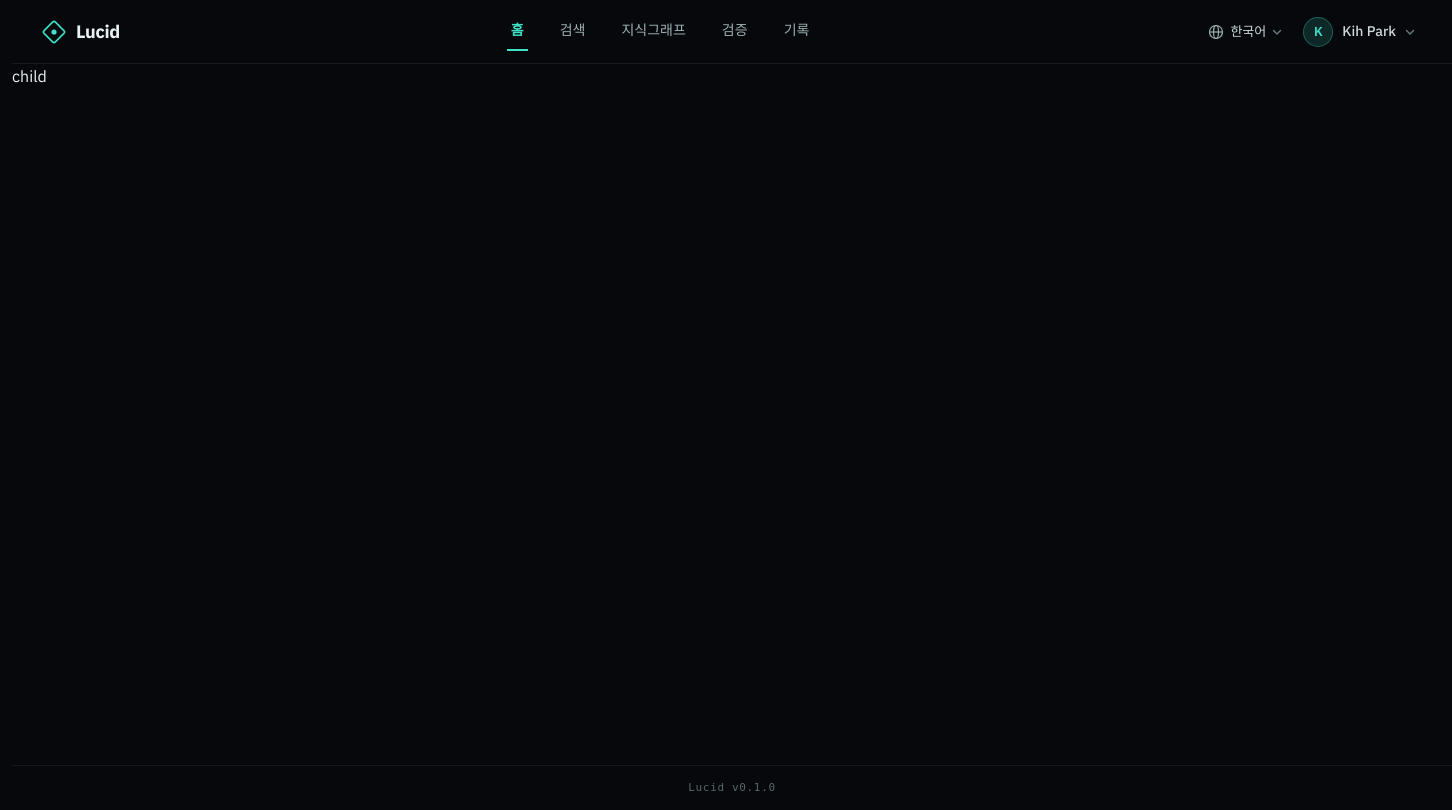
it: AppShell › B-61 — renders me.email when useAuthMe returns a me object
Open the dropdown so the email is in the DOM.
Click the button with test id "app-shell-profile-trigger".
click(1359, 32)  # box [1296, 12, 1422, 52]
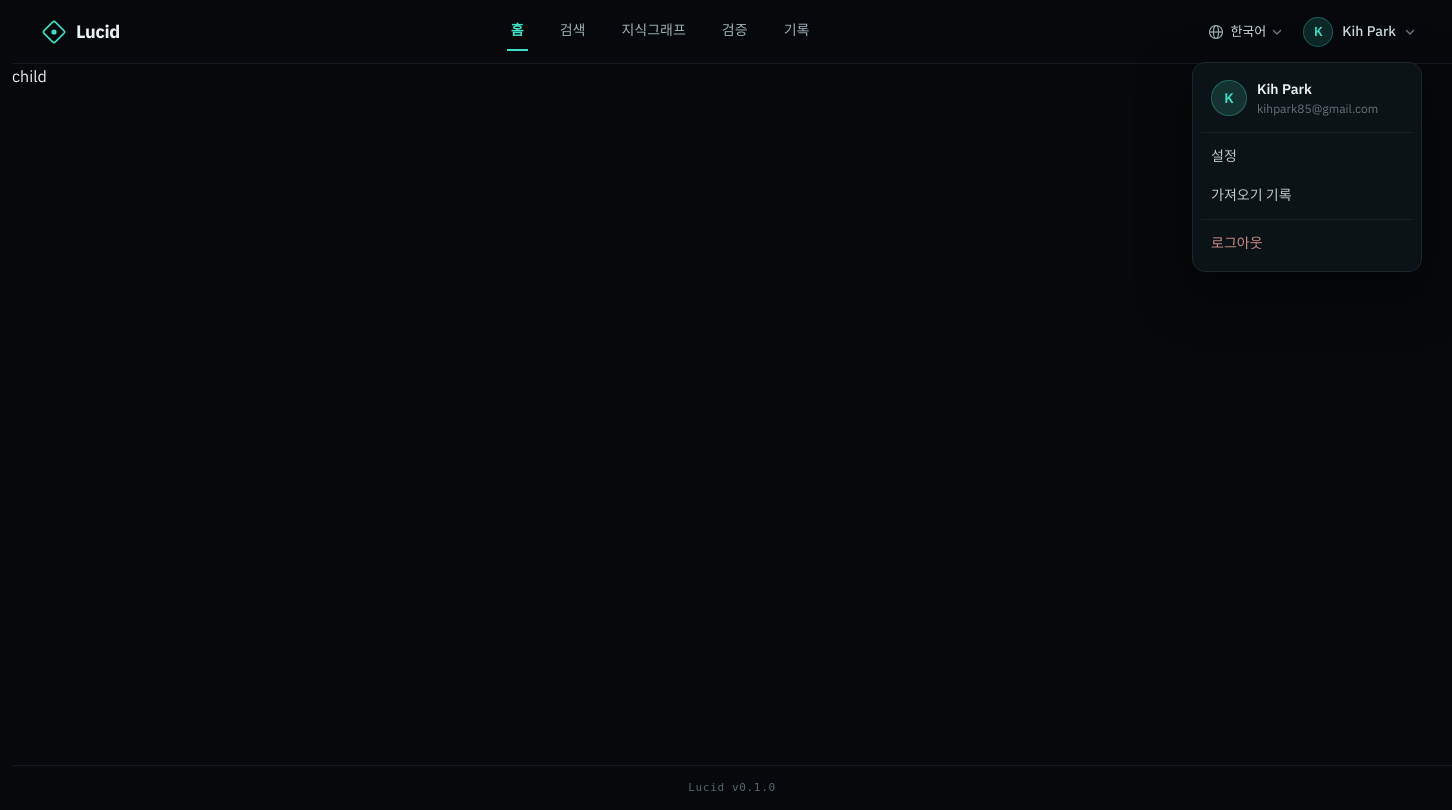
Expected: the menu with test id "app-shell-profile-menu" does not show "kihpark85@lucid.kr", [1192, 62, 1422, 272]
Expected: the menu with test id "app-shell-profile-menu" shows "kihpark85@gmail.com", [1257, 100, 1378, 116]
